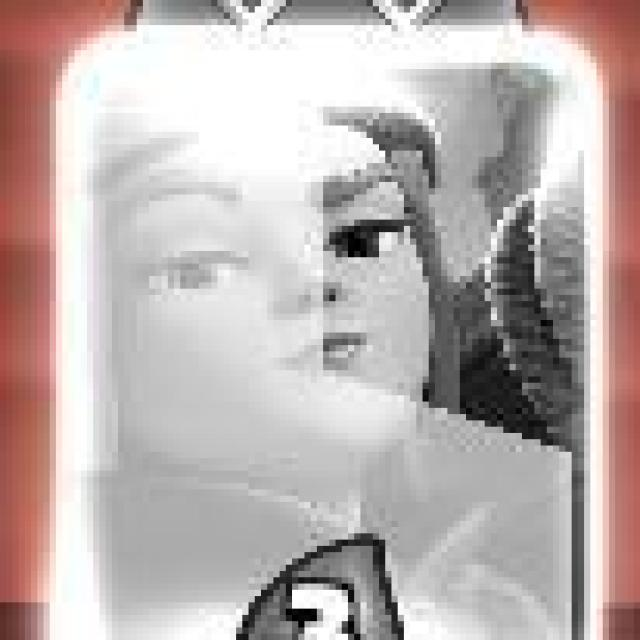Evolved_Firecracker: (53, 26, 604, 640)
